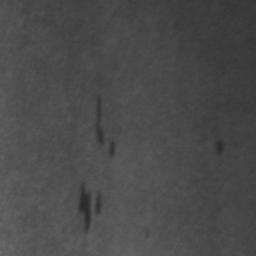Inclusion: (79, 184, 102, 230), (95, 95, 105, 145), (109, 142, 116, 157)
